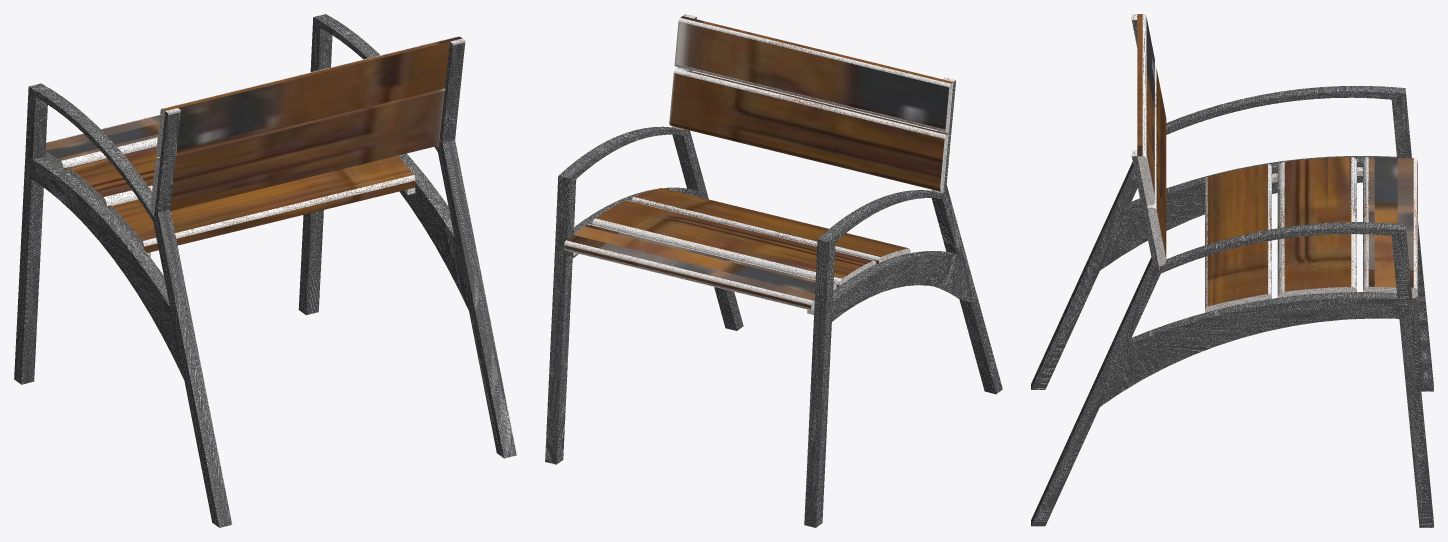
3 views of the same model, side by side, from view 1: azimuth 30°, elevation 25°; view 2: azimuth 150°, elevation 25°; view 3: azimuth 270°, elevation 25° (orthographic). The views are drawn at different scales.
Visible parts, largest first — view 1: mesh1_mesh1-geometry; view 2: mesh1_mesh1-geometry; view 3: mesh1_mesh1-geometry.
Boxes of the visible parts, x1,y1,x2,y2 form: mesh1_mesh1-geometry: [14, 14, 516, 527]; mesh1_mesh1-geometry: [545, 14, 1002, 527]; mesh1_mesh1-geometry: [1031, 14, 1433, 527].
Bounding box in the file's own units: 0.5054 × 0.6156 × 0.6047.
